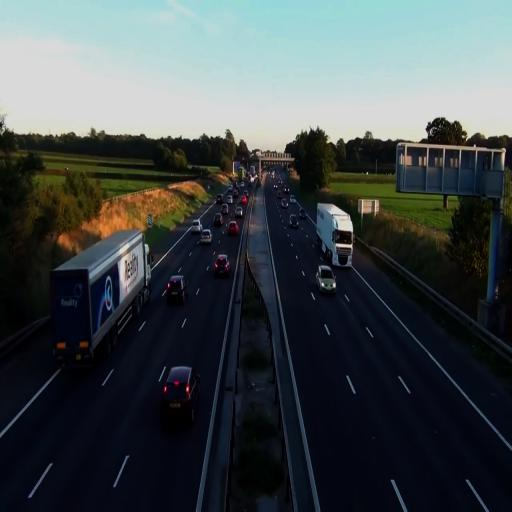vehicle: (50, 229, 150, 368), (159, 364, 201, 426), (316, 202, 354, 268), (166, 274, 187, 306), (316, 264, 336, 294), (213, 252, 230, 278), (227, 220, 239, 237), (200, 228, 212, 245)
